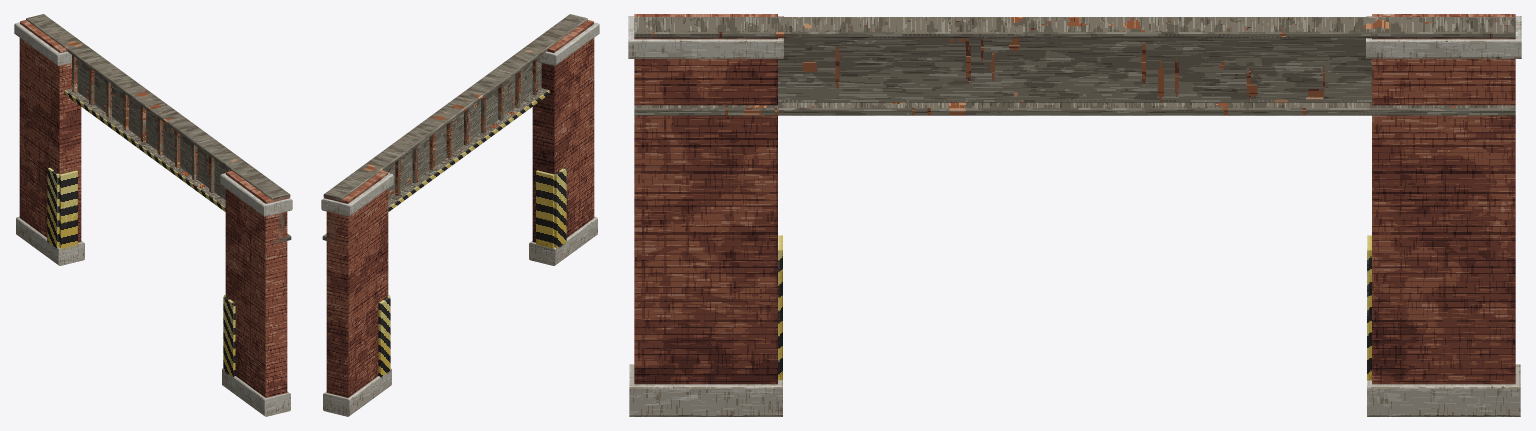
Rendered from underpass_portal.glb.
3 views of the same model, side by side, from view 1: azimuth 30°, elevation 25°; view 2: azimuth 150°, elevation 25°; view 3: azimuth 270°, elevation 25° (orthographic). The views are drawn at different scales.
Visible parts, largest first — view 1: underpass_portal; view 2: underpass_portal; view 3: underpass_portal.
Part boxes in pixels (left/top/right/bottom): underpass_portal: left=14, top=14, right=292, bottom=416; underpass_portal: left=321, top=14, right=599, bottom=416; underpass_portal: left=628, top=14, right=1521, bottom=416.
Bounding box in the file's own units: 0.61 × 4.3 × 9.02.
Materials: 1 (1 with a texture image).
